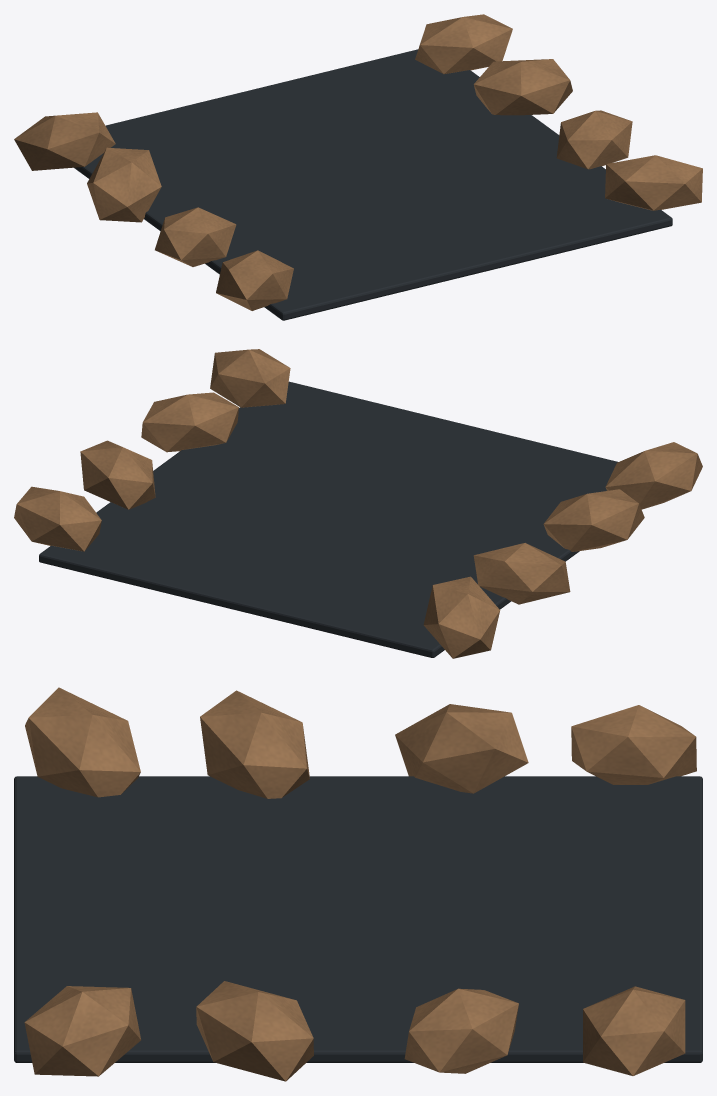
File: gap.glb
3 views of the same model, one above another, from view 1: azimuth 30°, elevation 25°; view 2: azimuth 150°, elevation 25°; view 3: azimuth 270°, elevation 25° (orthographic). The views are drawn at different scales.
Visible parts, largest first — view 1: gap; view 2: gap; view 3: gap.
Boxes of the visible parts, x1=… form: gap: x1=14, y1=14, x2=702, y2=320; gap: x1=14, y1=349, x2=702, y2=658; gap: x1=14, y1=687, x2=702, y2=1081.
Size of the model in its own units: 2.34 by 0.2596 by 2.
2 materials, 1 textured.
